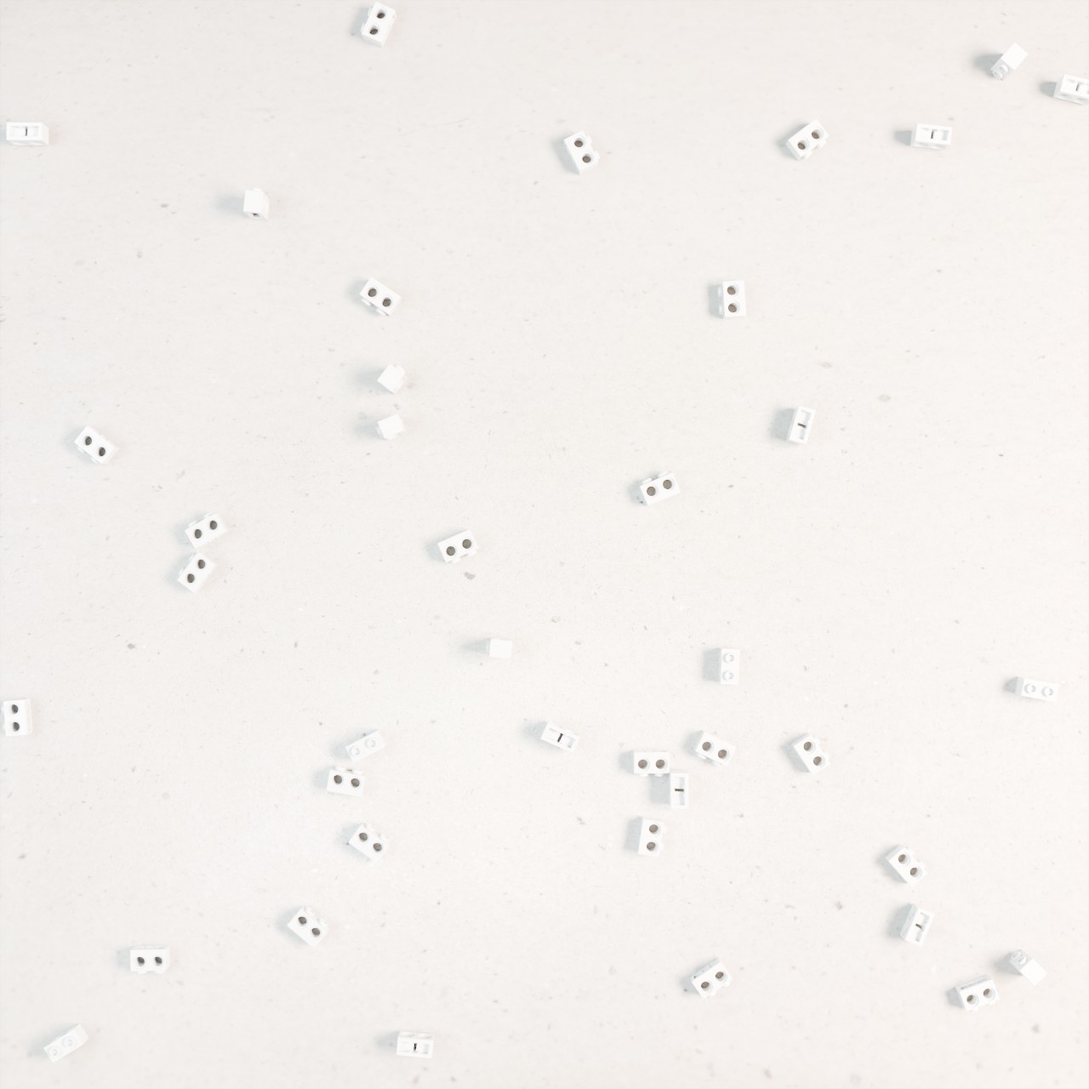lego: (885, 844, 928, 888), (287, 905, 330, 948), (785, 119, 829, 161), (43, 1023, 89, 1063), (74, 425, 120, 465), (690, 957, 733, 999), (348, 822, 391, 863), (791, 732, 831, 776), (360, 1, 397, 48), (177, 552, 219, 593), (359, 277, 402, 317), (955, 975, 1000, 1012), (185, 512, 229, 549), (564, 130, 600, 175), (694, 730, 736, 767), (900, 903, 935, 947), (437, 529, 479, 565), (990, 42, 1028, 81), (639, 471, 681, 506), (345, 729, 387, 763), (1009, 949, 1047, 986), (326, 765, 367, 797), (541, 720, 580, 753), (1, 698, 33, 737), (637, 816, 667, 857), (786, 405, 816, 446), (130, 945, 170, 974), (1053, 74, 1089, 106), (1015, 676, 1059, 702), (910, 123, 952, 150), (718, 280, 746, 319), (396, 1031, 435, 1059), (6, 122, 49, 146), (633, 750, 669, 777), (377, 363, 407, 395), (243, 188, 270, 221), (376, 414, 407, 441), (718, 647, 740, 685), (669, 770, 689, 809), (486, 637, 513, 659)
